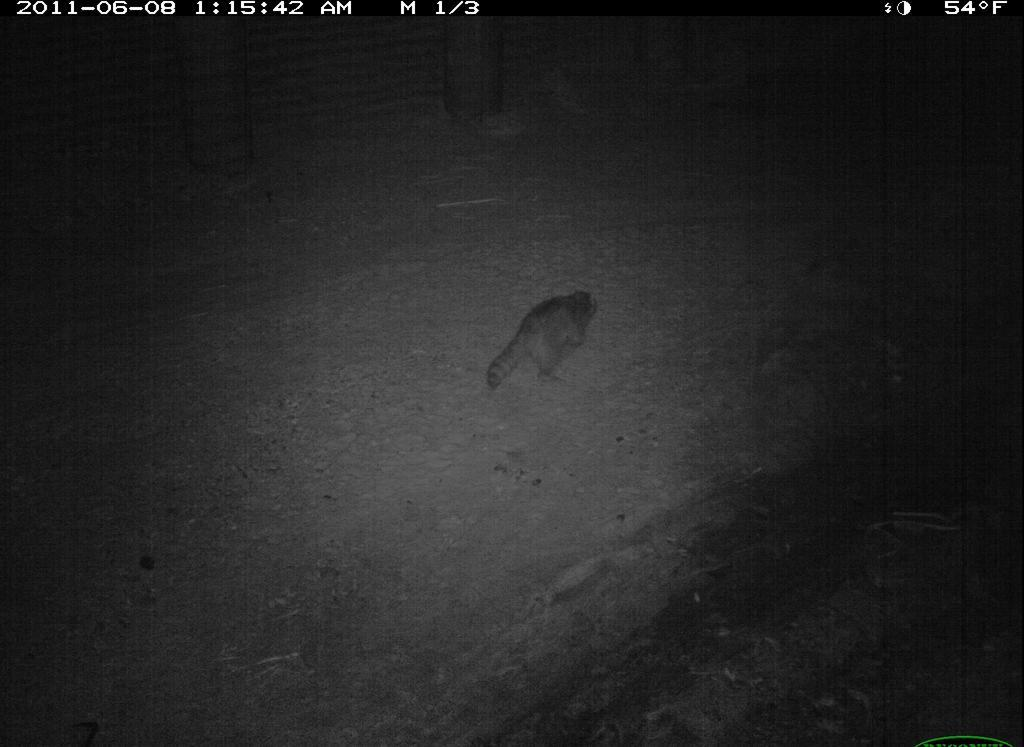raccoon: (470, 265, 612, 390)
